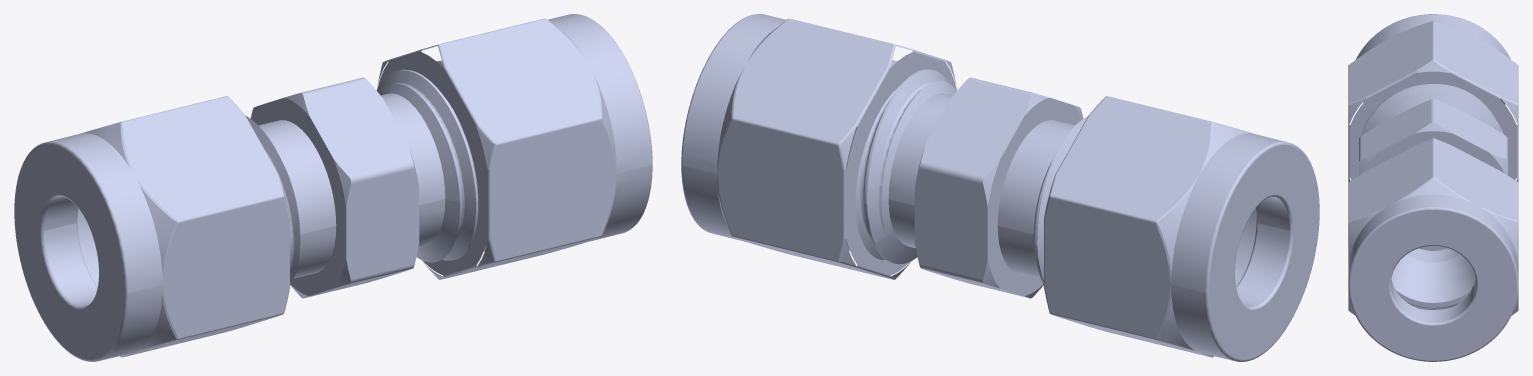
File: CUA-8M.glb
The picture shows the model from 3 angles, left to right: view 1: azimuth 30°, elevation 25°; view 2: azimuth 150°, elevation 25°; view 3: azimuth 270°, elevation 25°; orthographic projection. The views are drawn at different scales.
Parts seen in each view (by area): view 1: DIN2353_TUBE_NUT (×2), DIN2353-TUBE; view 2: DIN2353_TUBE_NUT (×2), DIN2353-TUBE; view 3: DIN2353_TUBE_NUT (×2), DIN2353-TUBE.
Part boxes in pixels (bbox=[...]): DIN2353_TUBE_NUT (×2): bbox=[14, 14, 652, 361]; DIN2353-TUBE: bbox=[245, 60, 495, 298]; DIN2353_TUBE_NUT (×2): bbox=[681, 14, 1319, 361]; DIN2353-TUBE: bbox=[845, 60, 1087, 298]; DIN2353_TUBE_NUT (×2): bbox=[1348, 14, 1518, 361]; DIN2353-TUBE: bbox=[1359, 70, 1507, 309].
Bounding box in the file's own units: 0.0432 × 0.0184 × 0.016.
